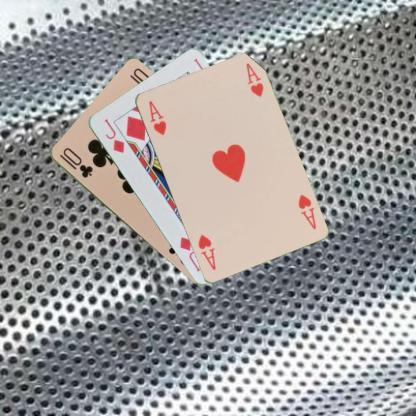10c: (56, 145, 94, 179)
Ah: (295, 191, 318, 231), (146, 98, 168, 136)
Jd: (100, 116, 126, 154)
